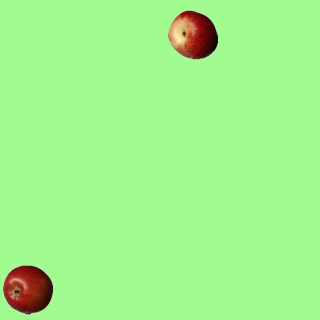Apple Braeburn: (2, 264, 52, 314)
Nectarine: (167, 9, 217, 59)
